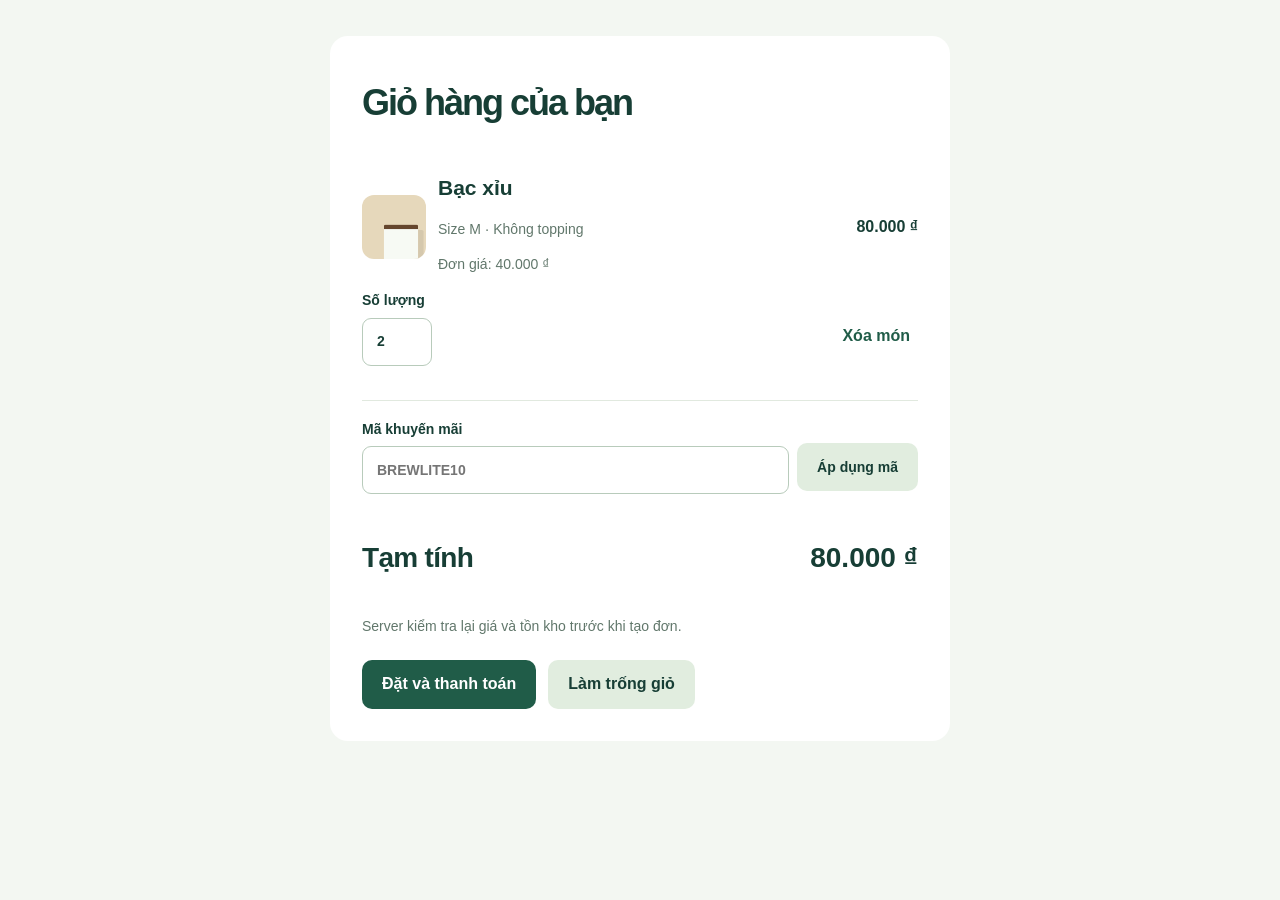
Test case: renders persisted items, unit price, and confirms before deleting
Check: the heading "Bạc xỉu" is shown, box [438, 176, 513, 199]
Check: the text "Đơn giá: 40.000 ₫" is shown, box [438, 256, 549, 272]
Click the button "Xóa món" at (876, 336), box [834, 312, 918, 360]
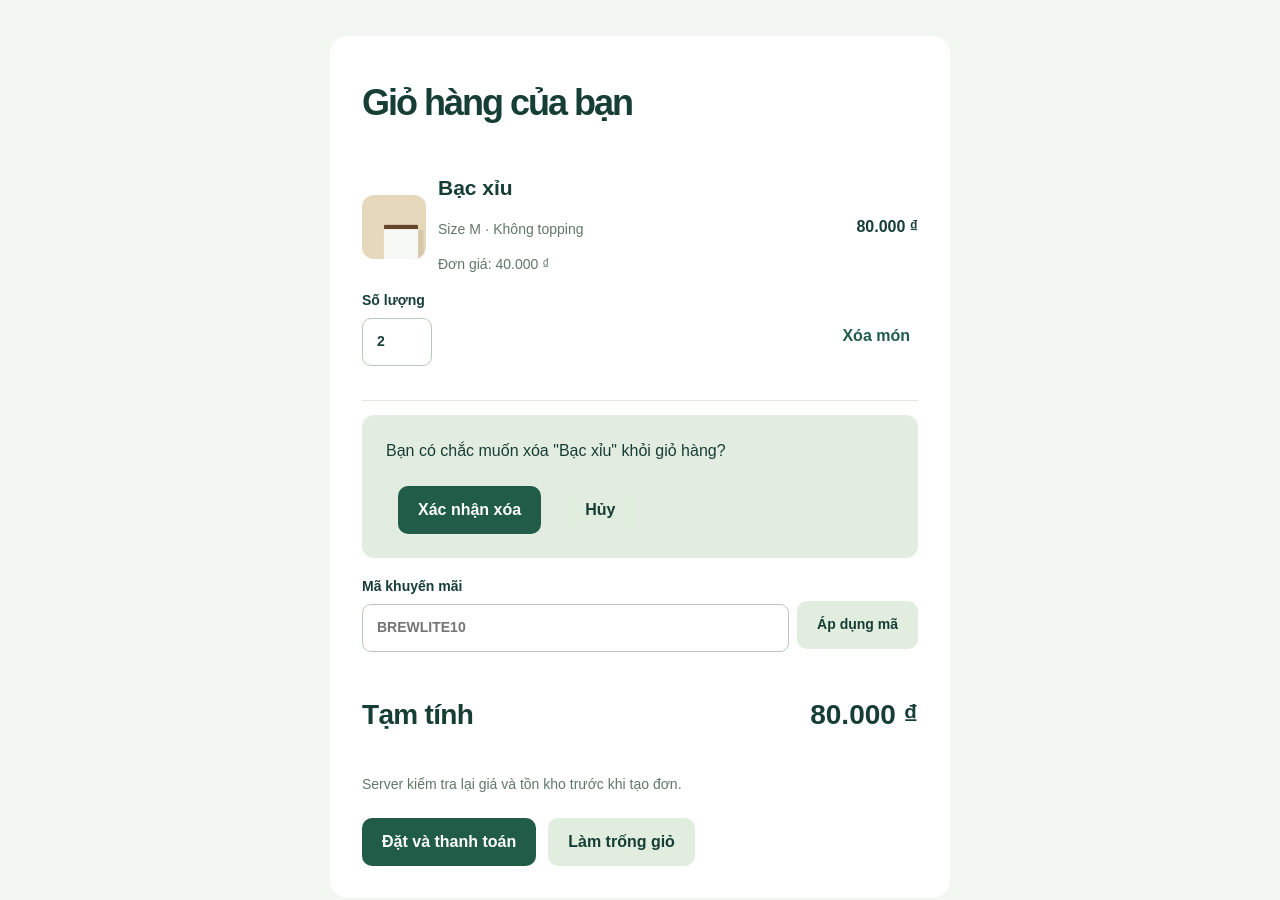
Check: the dialog named "Xác nhận xóa khỏi giỏ hàng" is shown, box [362, 415, 918, 558]
Click the button "Hủy" at (600, 510), box [565, 486, 635, 534]
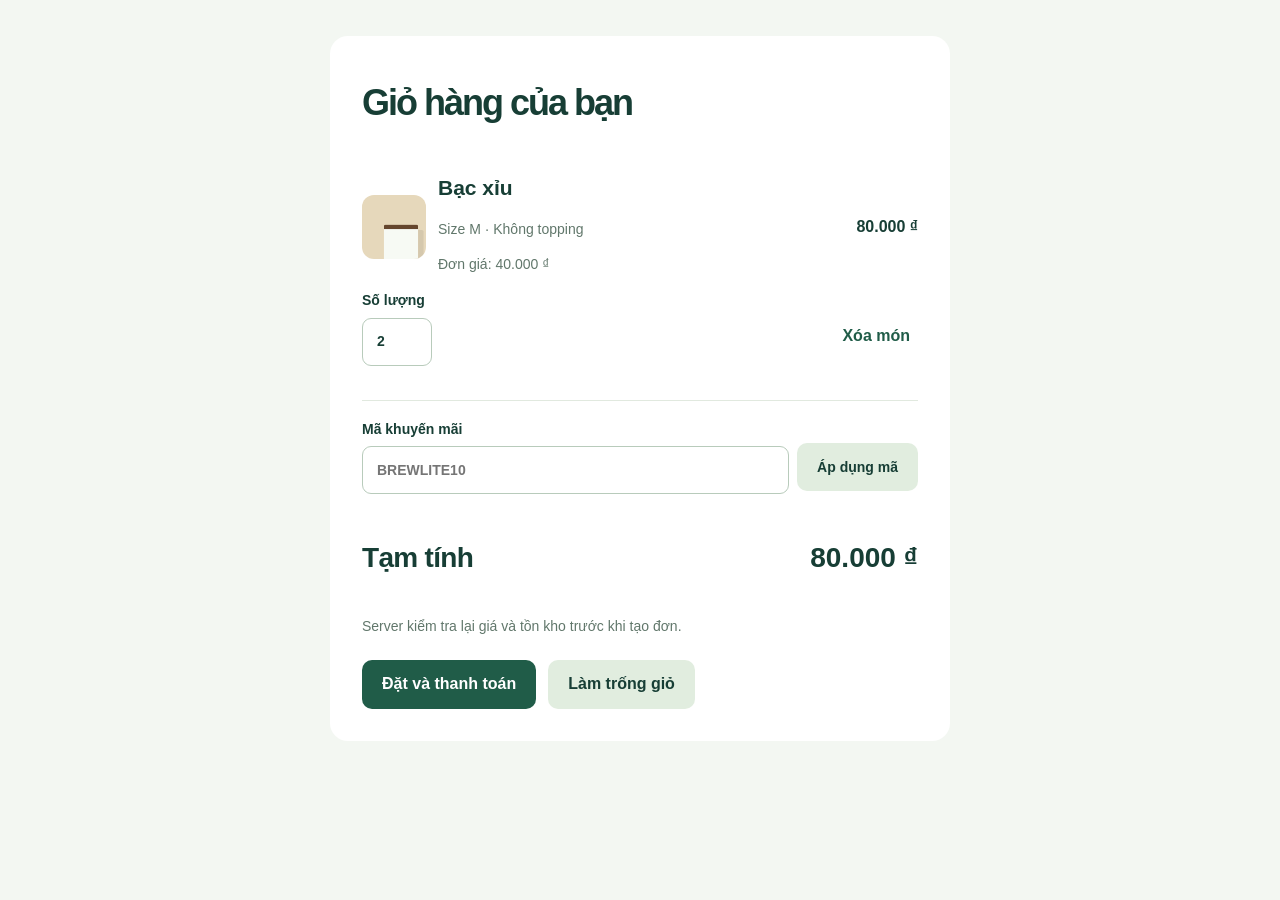
Check: the heading "Bạc xỉu" is shown, box [438, 176, 513, 199]
Click the button "Xóa món" at (876, 336), box [834, 312, 918, 360]
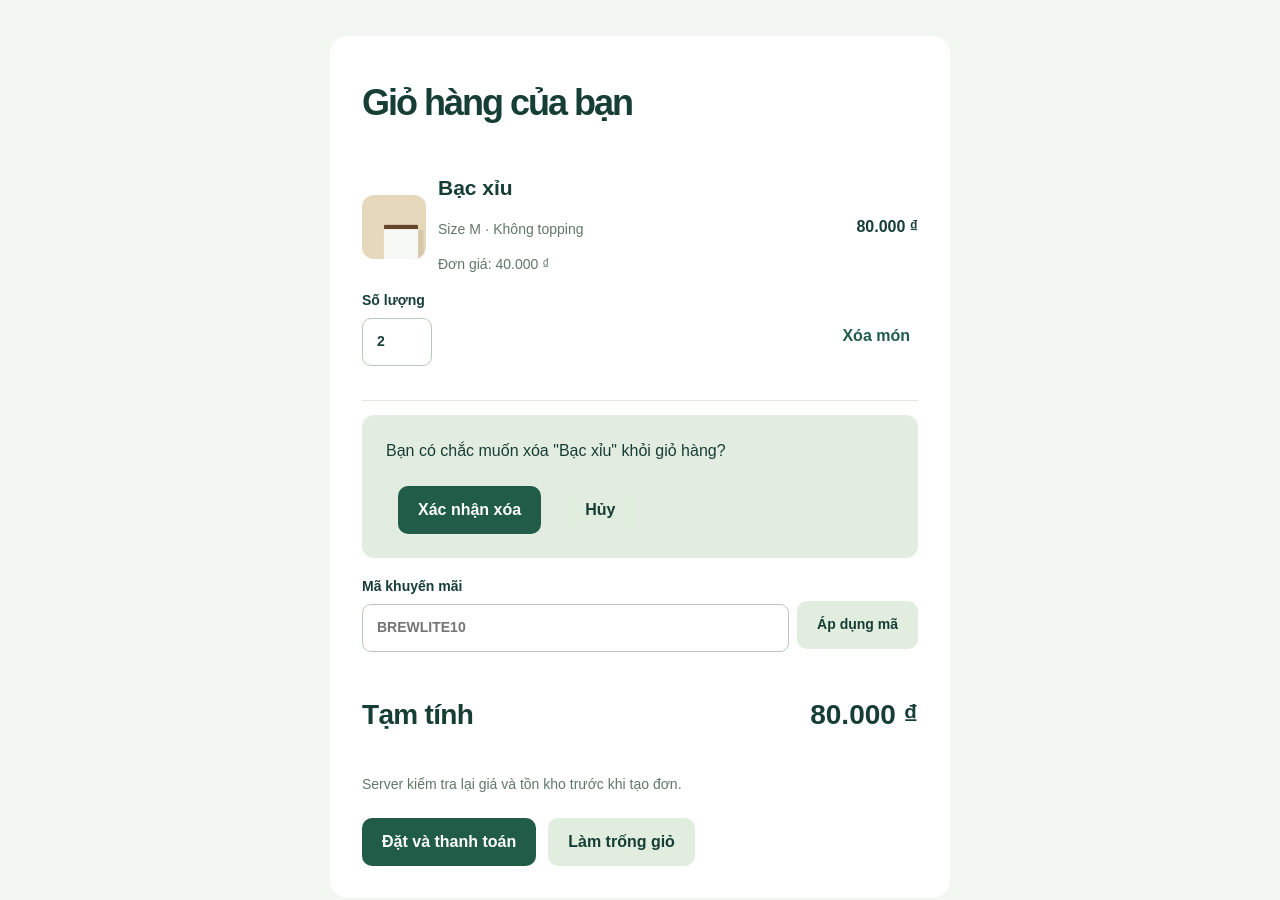
Click the button "Xác nhận xóa" at (470, 510), box [398, 486, 541, 534]
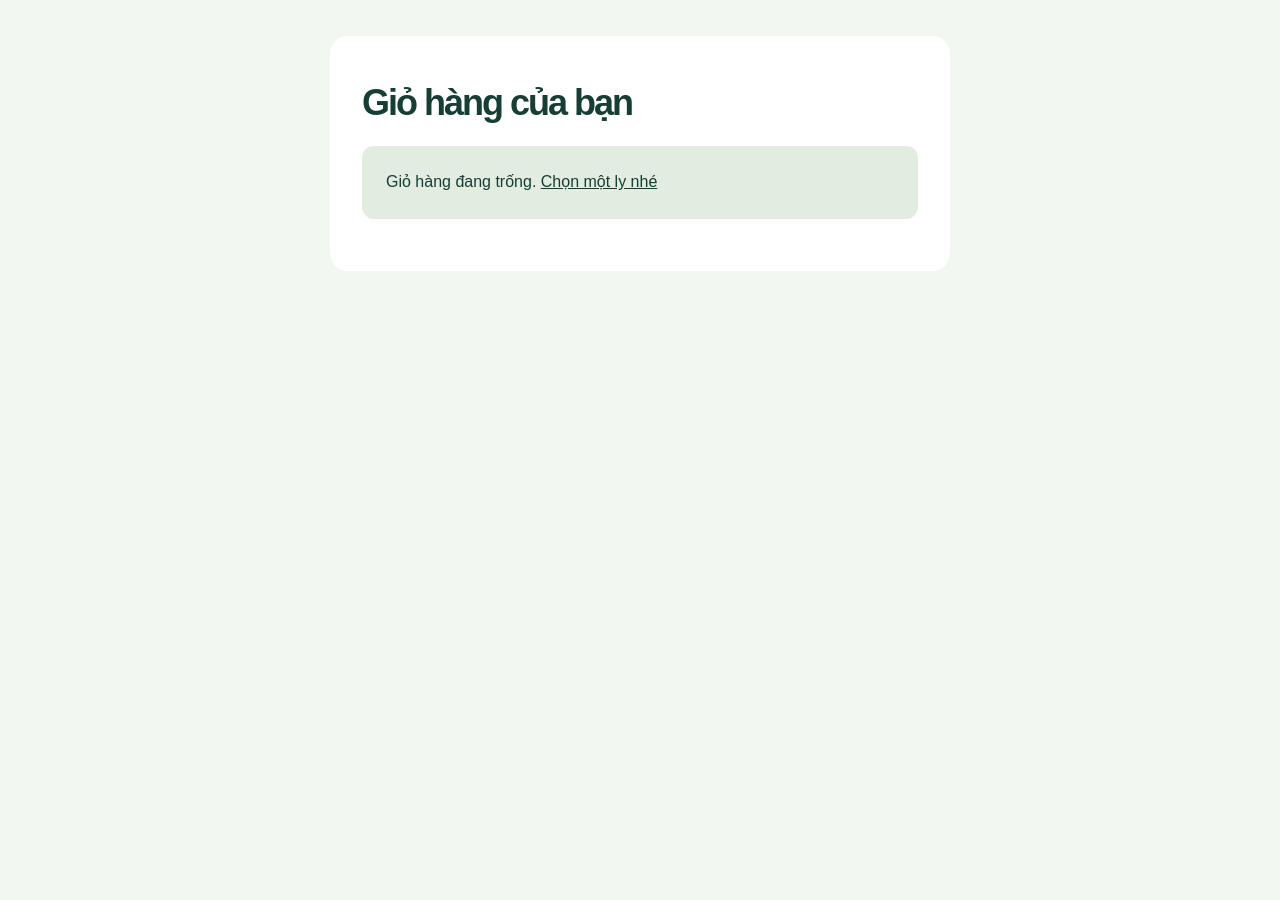
Check: the text "Giỏ hàng đang trống. Chọn một ly nhé" is shown, box [362, 146, 918, 219]
